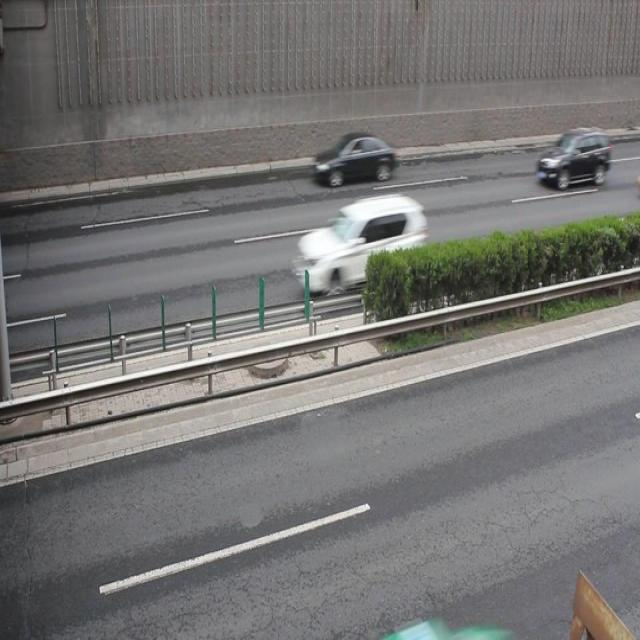car: (292, 195, 426, 293), (313, 132, 397, 186), (534, 127, 608, 188)
